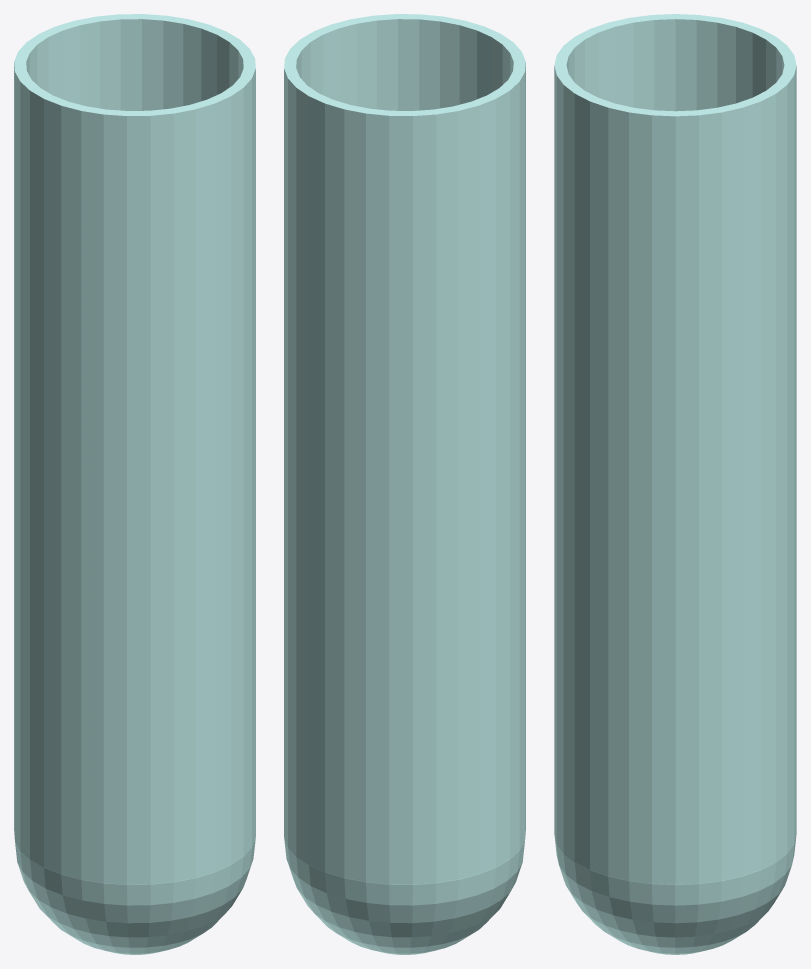
File: Reageerbuis.glb
The picture shows the model from 3 angles, left to right: view 1: azimuth 30°, elevation 25°; view 2: azimuth 150°, elevation 25°; view 3: azimuth 270°, elevation 25°; orthographic projection.
Visible parts, largest first — view 1: Cylinder; view 2: Cylinder; view 3: Cylinder.
Boxes of the visible parts, x1,y1,x2,y2 form: Cylinder: (14, 14, 255, 954); Cylinder: (284, 14, 525, 954); Cylinder: (554, 14, 796, 954).
Bounding box in the file's own units: 2 × 8 × 2.
